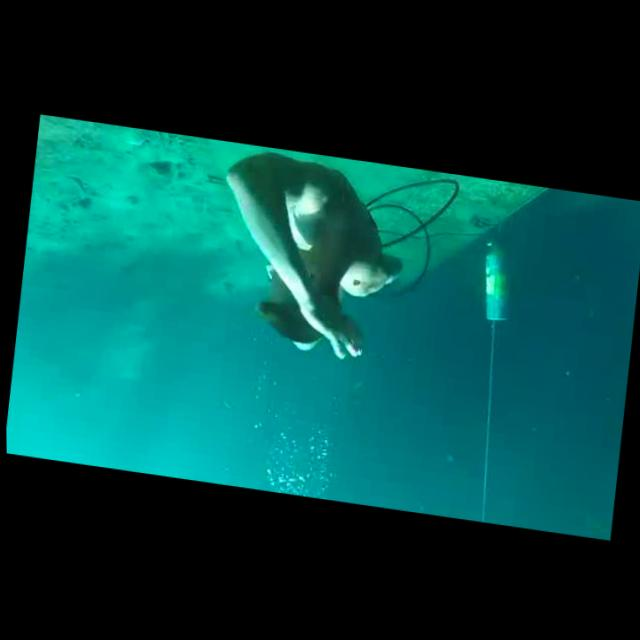human: (201, 140, 417, 370)
